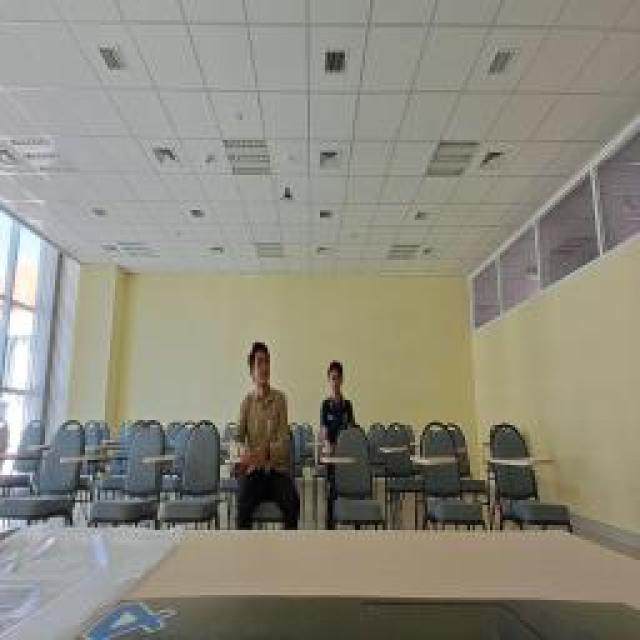study: (228, 340, 302, 525), (322, 352, 358, 462)
